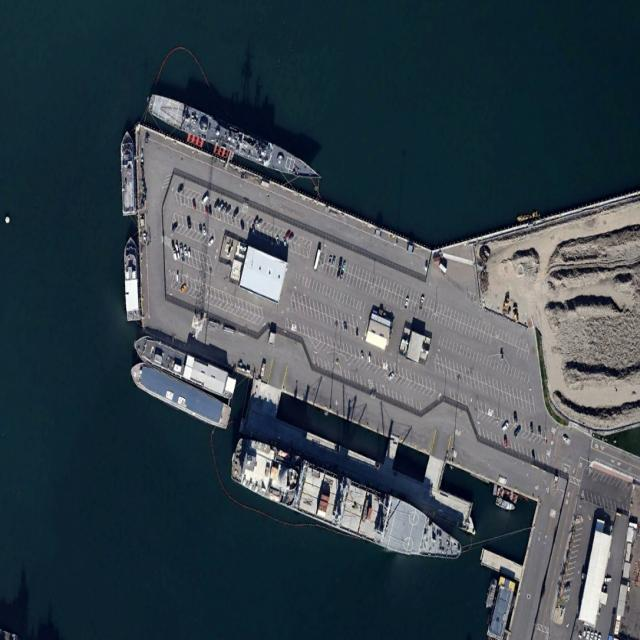Frigate: (144, 88, 325, 188)
Other Ship: (227, 428, 468, 580), (127, 356, 234, 434), (130, 329, 238, 402), (118, 128, 138, 217), (122, 235, 141, 320)
